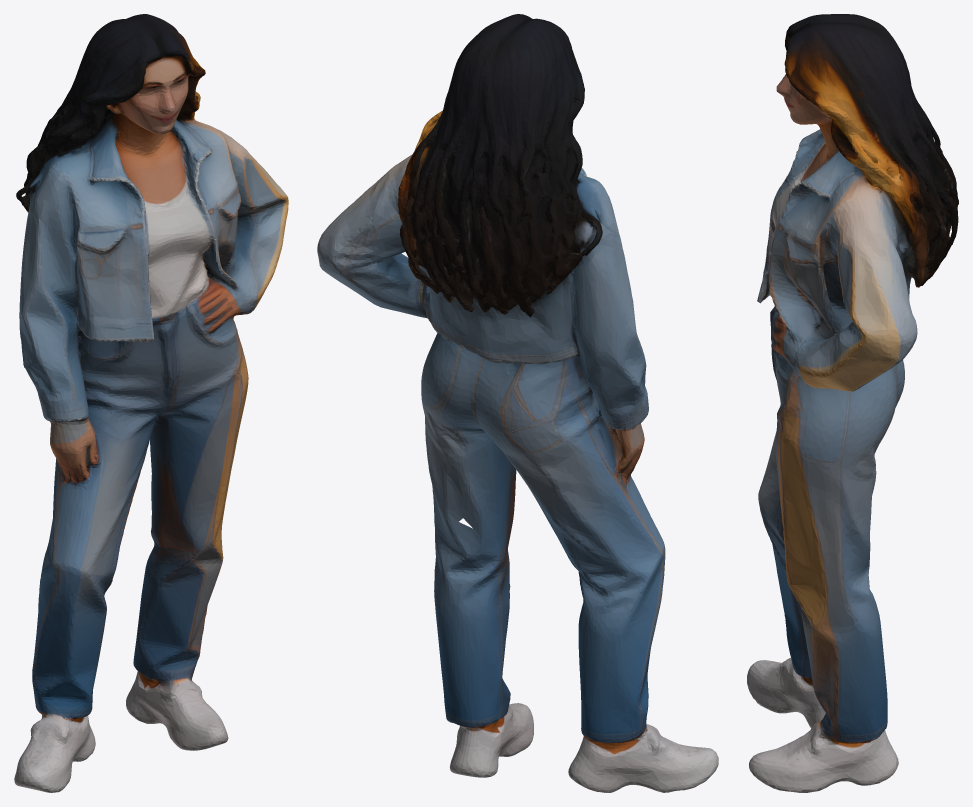
The picture shows the model from 3 angles, left to right: view 1: azimuth 30°, elevation 25°; view 2: azimuth 150°, elevation 25°; view 3: azimuth 270°, elevation 25°; orthographic projection. The views are drawn at different scales.
Parts seen in each view (by area): view 1: material; view 2: material; view 3: material.
Part boxes in pixels (x1,y1,x2,y2): material: [14, 14, 288, 792]; material: [317, 14, 718, 792]; material: [747, 14, 958, 792].
Size of the model in its own units: 0.5132 by 1.1 by 0.2812.
Materials: 1 (1 with a texture image).
